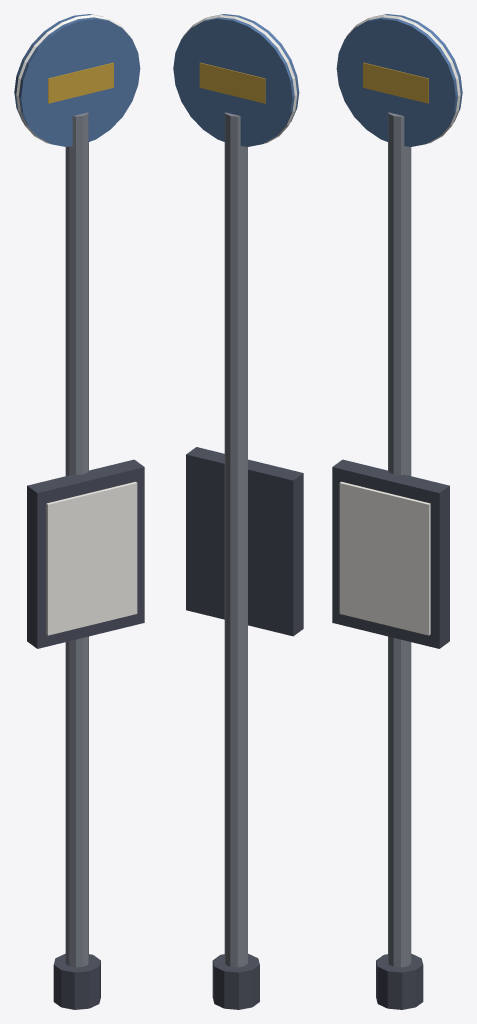
The model's file is stop-pole.glb.
The picture shows the model from 3 angles, left to right: view 1: azimuth 30°, elevation 25°; view 2: azimuth 150°, elevation 25°; view 3: azimuth 330°, elevation 25°; orthographic projection.
Parts seen in each view (by area): view 1: stop-pole; view 2: stop-pole; view 3: stop-pole.
Boxes of the visible parts, x1,y1,x2,y2 form: stop-pole: (14,14,144,1009); stop-pole: (173,14,303,1009); stop-pole: (332,14,462,1009).
Size of the model in its own units: 0.41 by 3.15 by 0.16.
